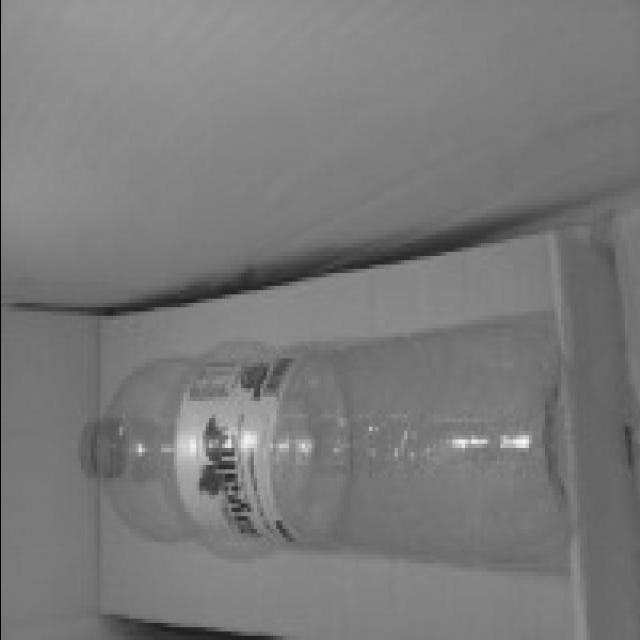good: (54, 302, 596, 574)
